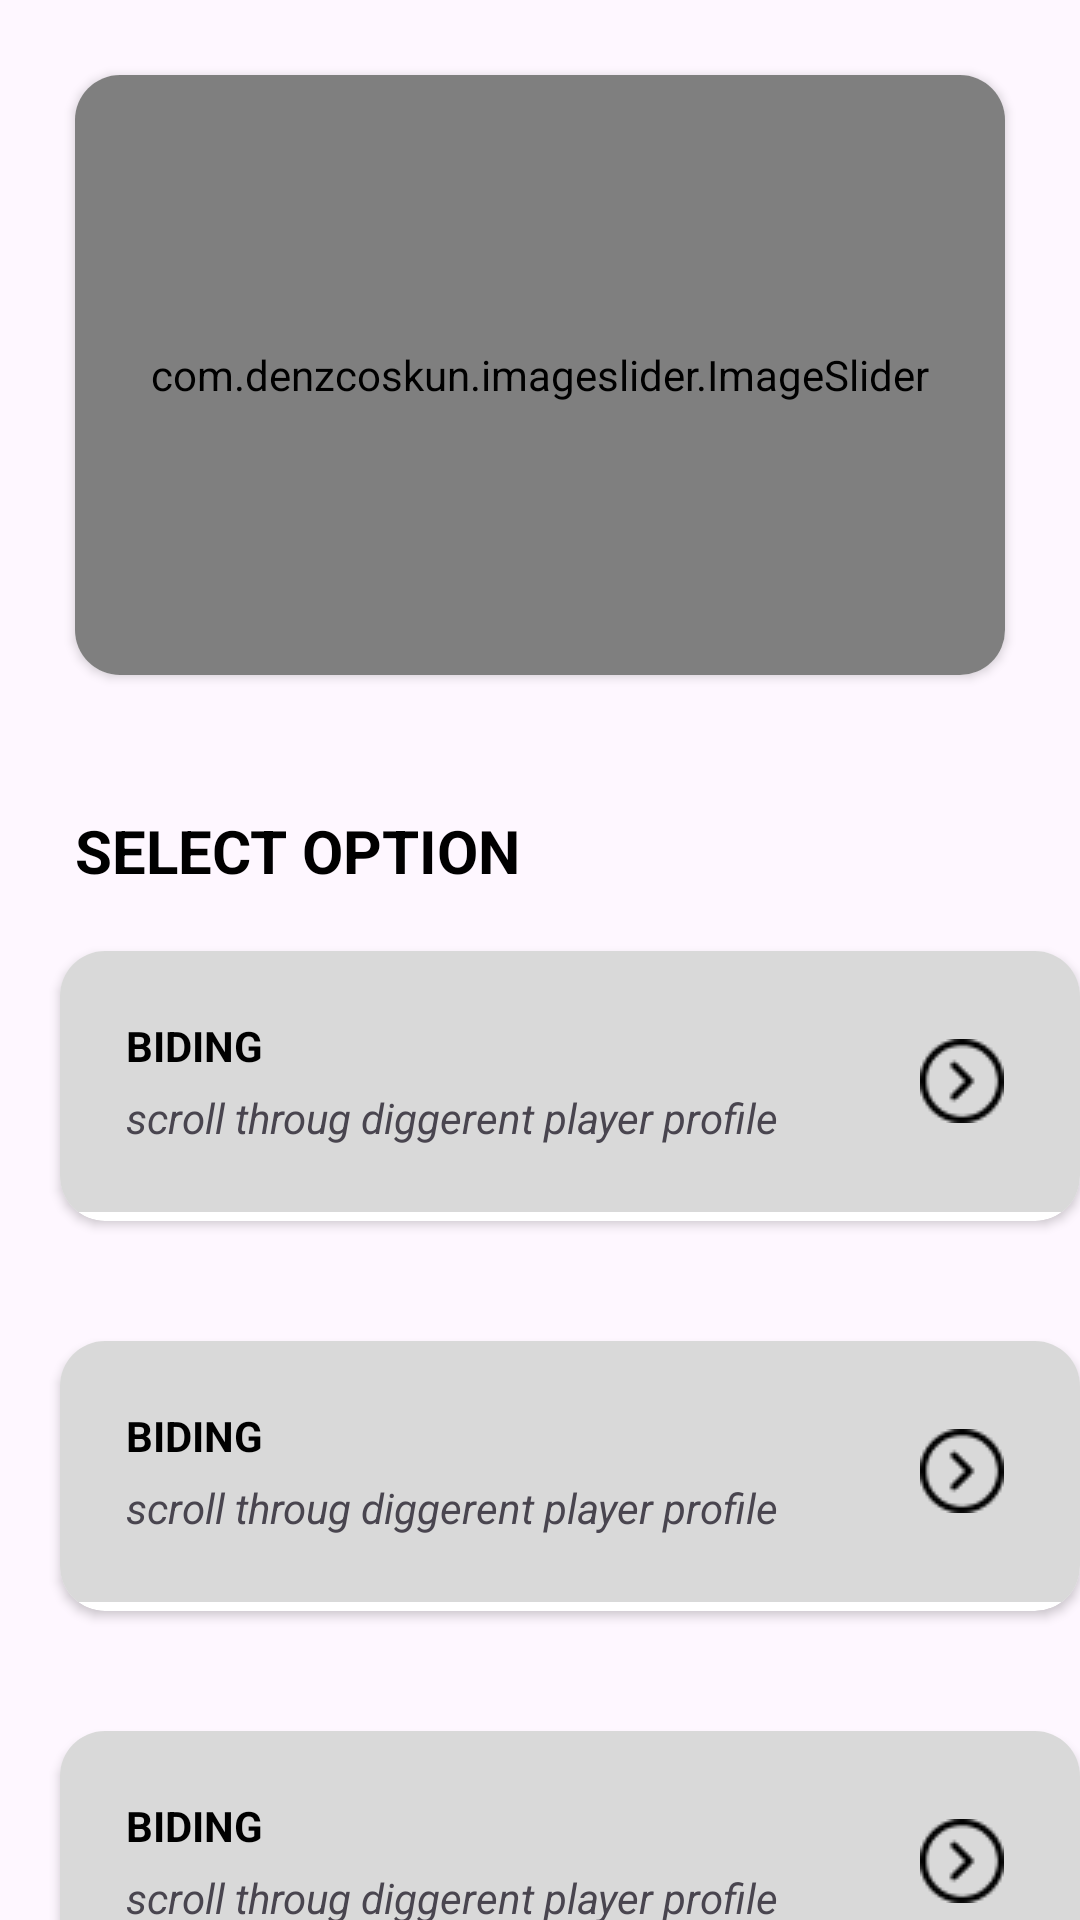

Screen size 1080x1920. Icon name, then its box in pixels as Rect(x1, y1, x2, y2):
arrow: Rect(920, 1039, 1004, 1123), Rect(920, 1429, 1004, 1513), Rect(920, 1819, 1004, 1903)
